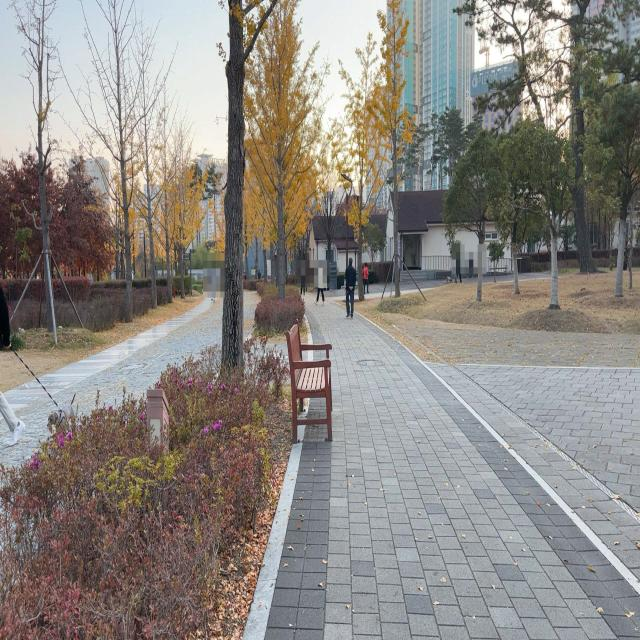Leashed_Dog: (3, 337, 77, 436)
